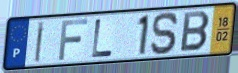1: (136, 14, 151, 57)
B: (179, 10, 212, 53)
F: (57, 18, 90, 62)
I: (33, 20, 46, 64)
L: (90, 18, 115, 60)
S: (149, 11, 180, 56)
